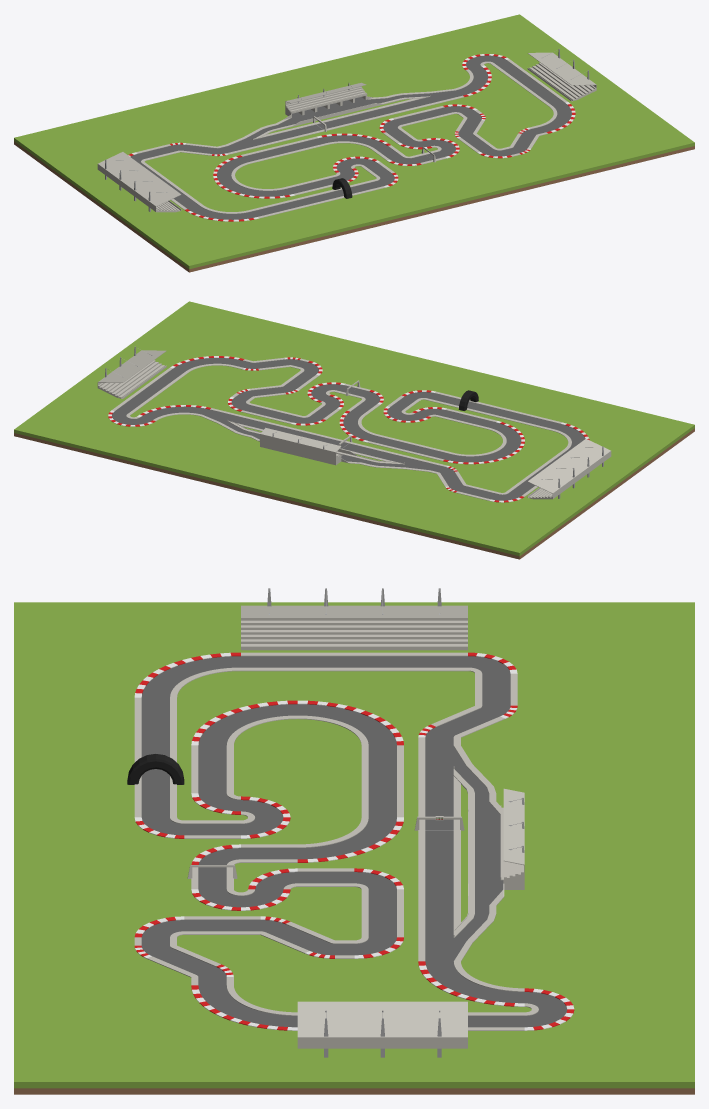
The model's file is track.glb.
3 views of the same model, one above another, from view 1: azimuth 30°, elevation 25°; view 2: azimuth 150°, elevation 25°; view 3: azimuth 270°, elevation 25° (orthographic). The views are drawn at different scales.
Parts seen in each view (by area): view 1: racetrack-racoon; view 2: racetrack-racoon; view 3: racetrack-racoon.
Boxes of the visible parts, bbox=[...] form: racetrack-racoon: bbox=[14, 14, 694, 272]; racetrack-racoon: bbox=[14, 301, 694, 559]; racetrack-racoon: bbox=[14, 588, 694, 1094].
Bounding box in the file's own units: 400 × 20 × 240.
Materials: 1 (1 with a texture image).
